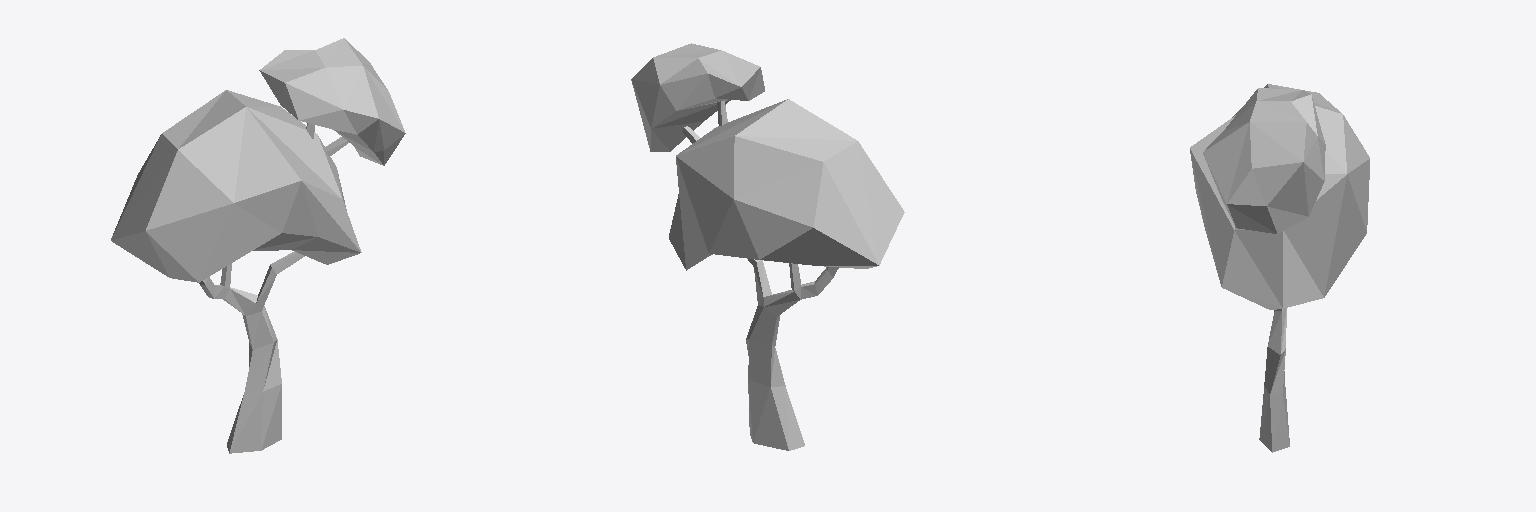
Rendered from Forest_C_Tree_15.obj.
The picture shows the model from 3 angles: view 1: azimuth 30°, elevation 25°; view 2: azimuth 150°, elevation 25°; view 3: azimuth 270°, elevation 25°; orthographic projection.
Parts seen in each view (by area): view 1: Forest_C_Tree_15; view 2: Forest_C_Tree_15; view 3: Forest_C_Tree_15.
Part boxes in pixels (x1,y1,x2,y2): Forest_C_Tree_15: (111,38,405,453); Forest_C_Tree_15: (631,43,904,450); Forest_C_Tree_15: (1190,84,1369,452).
Bounding box in the file's own units: 435 × 602 × 265.